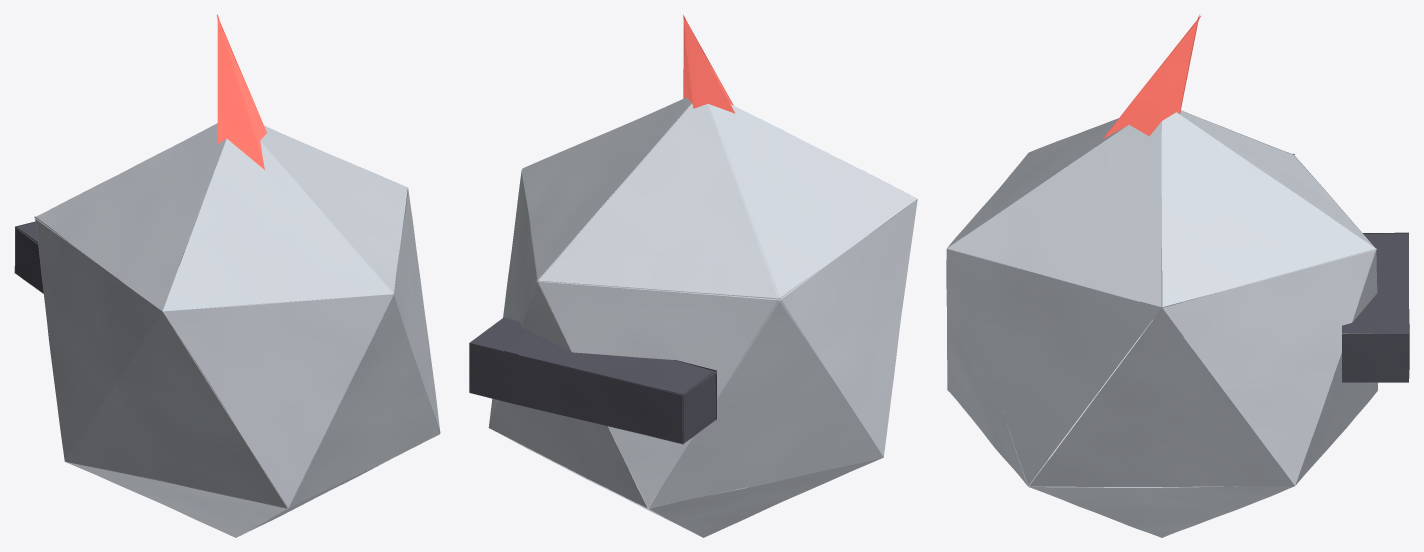
The model's file is helmet.glb.
3 renders of one model, left to right at view 1: azimuth 30°, elevation 25°; view 2: azimuth 150°, elevation 25°; view 3: azimuth 270°, elevation 25°, orthographic. The views are drawn at different scales.
Visible parts, largest first — view 1: Helmet; view 2: Helmet; view 3: Helmet.
Boxes of the visible parts, left/top/right/bottom form: Helmet: left=14, top=14, right=440, bottom=537; Helmet: left=469, top=14, right=917, bottom=537; Helmet: left=946, top=14, right=1409, bottom=537.
Size of the model in its own units: 0.6096 by 0.8655 by 0.6945.
